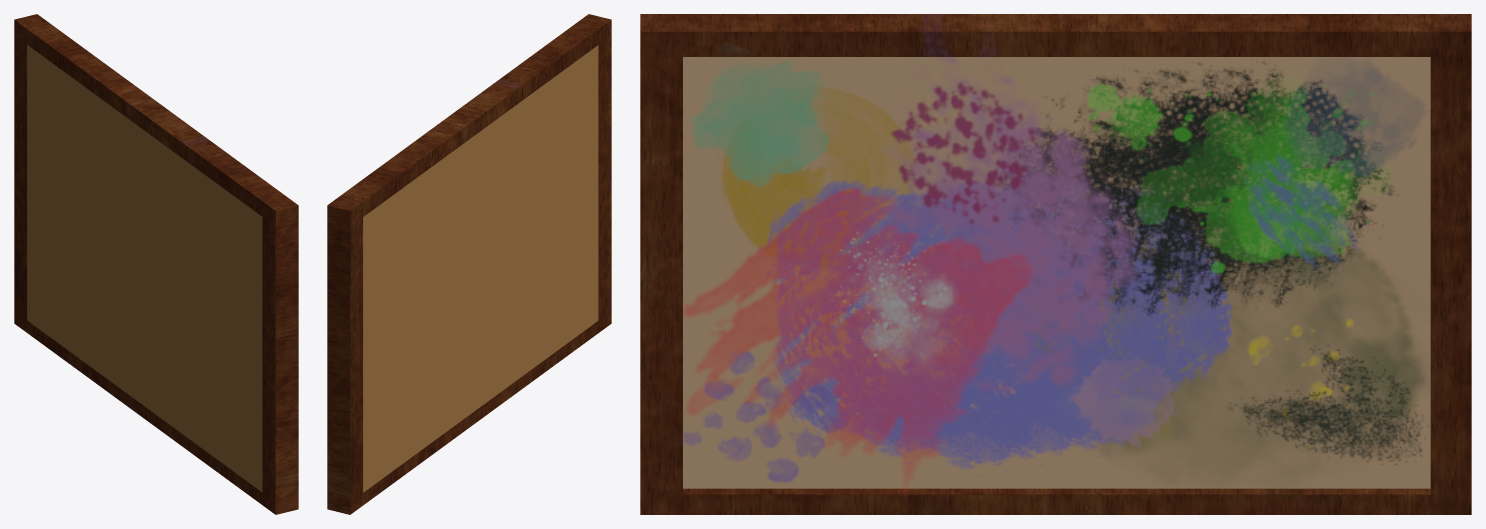
The model's file is MMM_Cafe_Wall_Art.fbx.
The picture shows the model from 3 angles, left to right: view 1: azimuth 30°, elevation 25°; view 2: azimuth 150°, elevation 25°; view 3: azimuth 270°, elevation 25°; orthographic projection. The views are drawn at different scales.
Visible parts, largest first — view 1: Wall_Art1; view 2: Wall_Art1; view 3: Wall_Art1.
Boxes of the visible parts, x1=… form: Wall_Art1: x1=14, y1=14, x2=298, y2=514; Wall_Art1: x1=327, y1=14, x2=611, y2=514; Wall_Art1: x1=640, y1=14, x2=1471, y2=514.
Size of the model in its own units: 18.01 by 228 by 355.
1 material, 1 textured.
